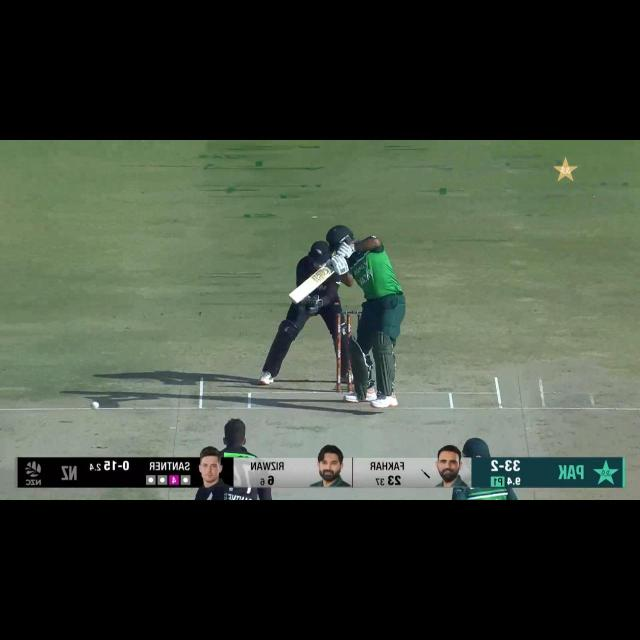bat: (288, 255, 345, 308)
toe: (287, 286, 308, 309)
